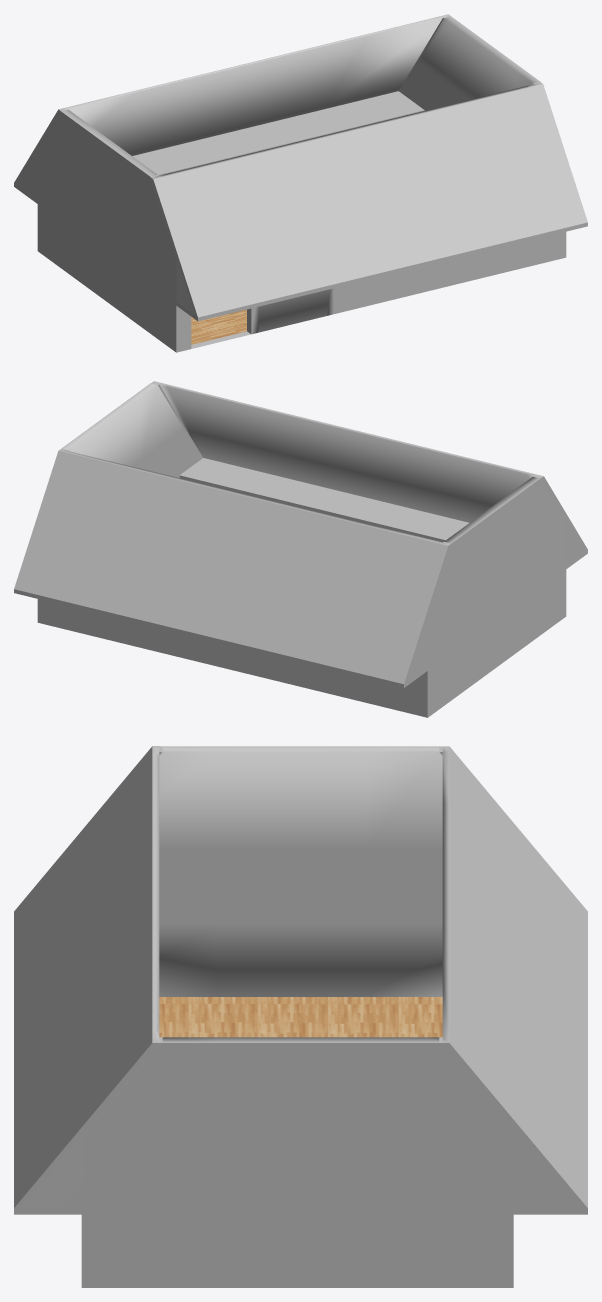
File: sporthalle4.obj
The picture shows the model from 3 angles, top to bottom: view 1: azimuth 30°, elevation 25°; view 2: azimuth 150°, elevation 25°; view 3: azimuth 270°, elevation 25°; orthographic projection. The views are drawn at different scales.
Visible parts, largest first — view 1: sprothalle_Plane.002, boden_Plane; view 2: sprothalle_Plane.002; view 3: sprothalle_Plane.002, boden_Plane.
Boxes of the visible parts, x1=… form: sprothalle_Plane.002: x1=14, y1=14, x2=587, y2=352; boden_Plane: x1=191, y1=309, x2=246, y2=344; sprothalle_Plane.002: x1=14, y1=381, x2=587, y2=717; sprothalle_Plane.002: x1=14, y1=746, x2=587, y2=1287; boden_Plane: x1=159, y1=997, x2=442, y2=1037.
Bounding box in the file's own units: 52.05 × 20 × 42.5.
Materials: 2 (1 with a texture image).
